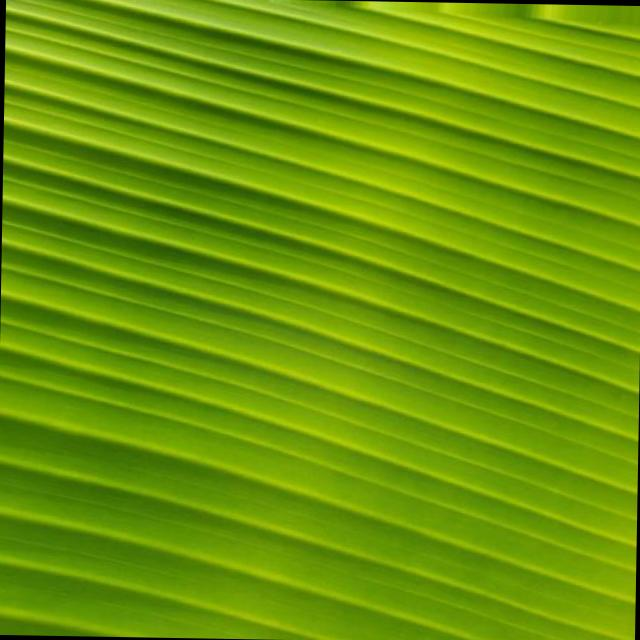Banana_Healthy: (36, 44, 471, 400)
